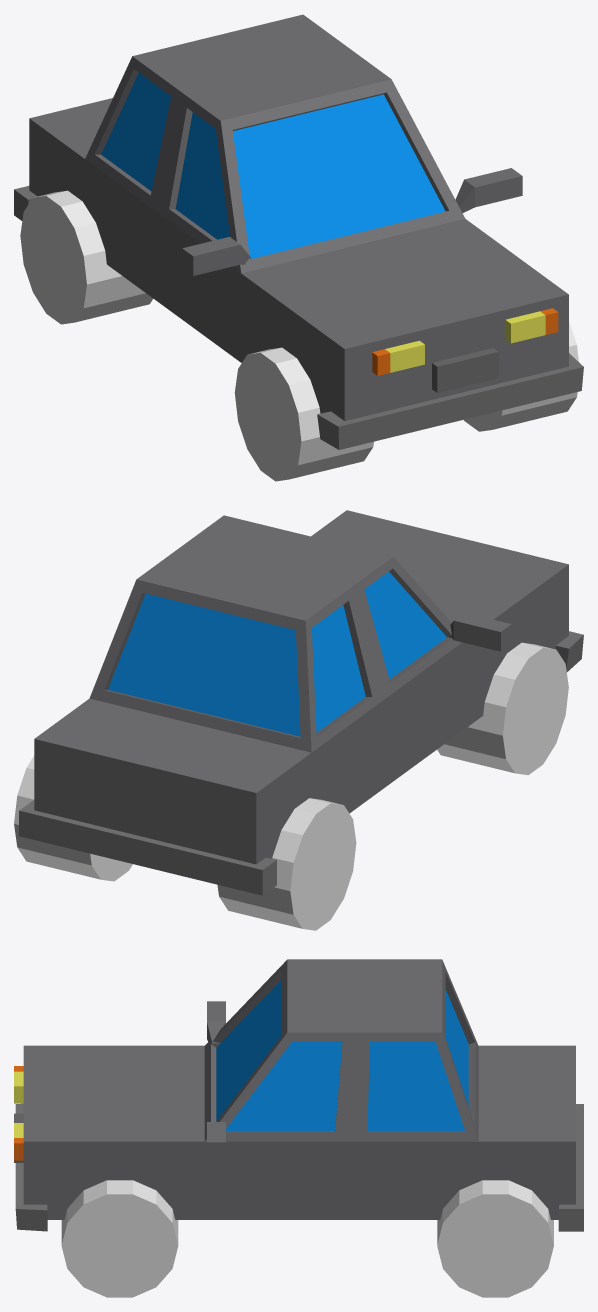
The model's file is car2.fbx.
3 renders of one model, top to bottom at view 1: azimuth 30°, elevation 25°; view 2: azimuth 150°, elevation 25°; view 3: azimuth 270°, elevation 25°, orthographic. The views are drawn at different scales.
Visible parts, largest first — view 1: Cube, Cylinder, Cylinder.003, Cube.002, Cube.001, Cube.003; view 2: Cube, Cylinder.003, Cylinder, Cube.002; view 3: Cube, Cylinder, Cylinder.003, Cube.002, Cube.001.
Part boxes in pixels (x1,y1,x2,y2): Cube: [14, 14, 583, 449]; Cylinder: [234, 321, 578, 481]; Cylinder.003: [20, 190, 153, 324]; Cube.002: [182, 168, 522, 275]; Cube.001: [372, 308, 558, 375]; Cube.003: [432, 348, 498, 392]; Cube: [19, 510, 583, 895]; Cylinder.003: [14, 756, 356, 930]; Cylinder: [437, 642, 568, 775]; Cube.002: [449, 613, 511, 651]; Cube: [15, 959, 583, 1231]; Cylinder: [61, 1180, 178, 1297]; Cylinder.003: [437, 1180, 553, 1297]; Cube.002: [207, 1001, 225, 1159]; Cube.001: [14, 1066, 23, 1160].
Bounding box in the file's own units: 443 × 351 × 758.
